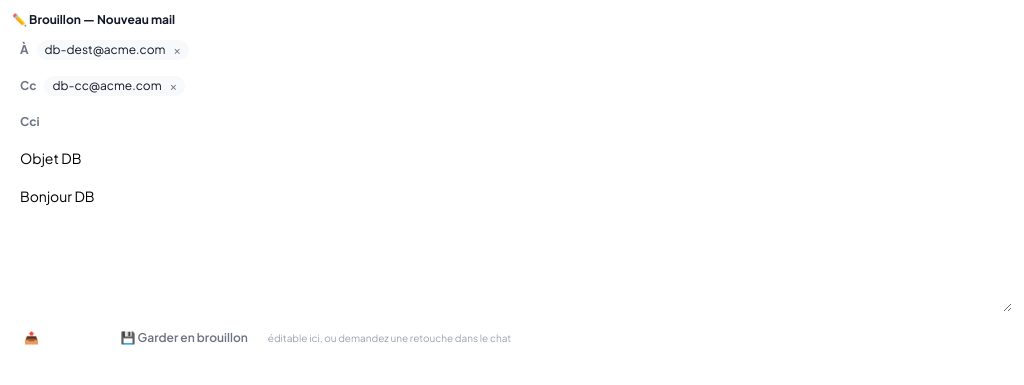
Scenario: MailDraftWidget › Garder en brouillon › flush réussi → note « Sauvegardé… », sendMessage jamais appelé
Replace the text in the field named "Objet" with "Nouvel objet" at (512, 158), box top-left (12, 144), bottom-right (1012, 172)
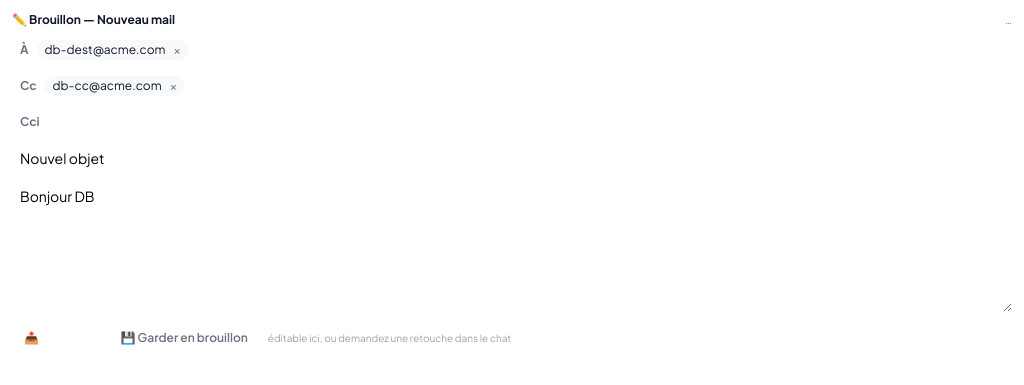
Click the button "💾 Garder en brouillon" at (184, 338), box top-left (108, 326), bottom-right (260, 350)
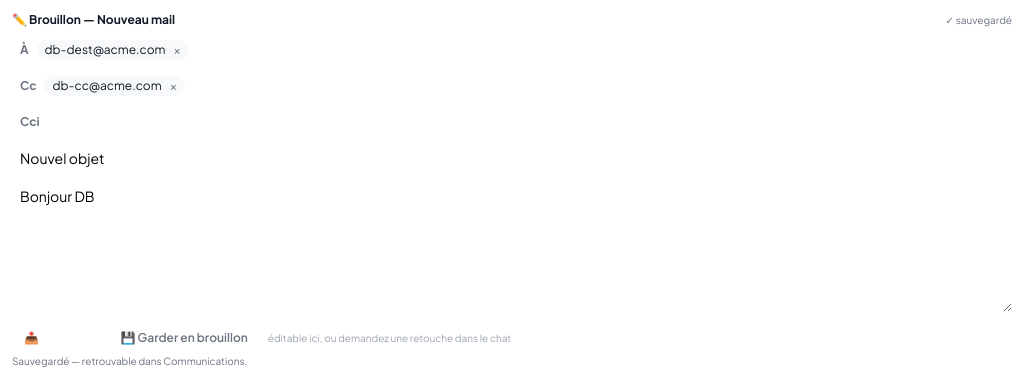
Result: the text "Sauvegardé — retrouvable dans Communications." is shown at top-left (12, 355), bottom-right (247, 367)
